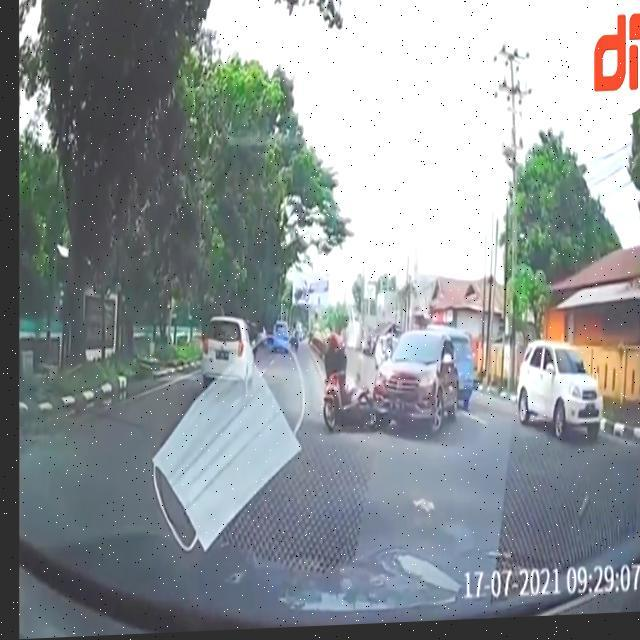multiple_accident: (321, 340, 481, 459)
normal: (511, 330, 624, 454)
single accident: (191, 314, 286, 391)
